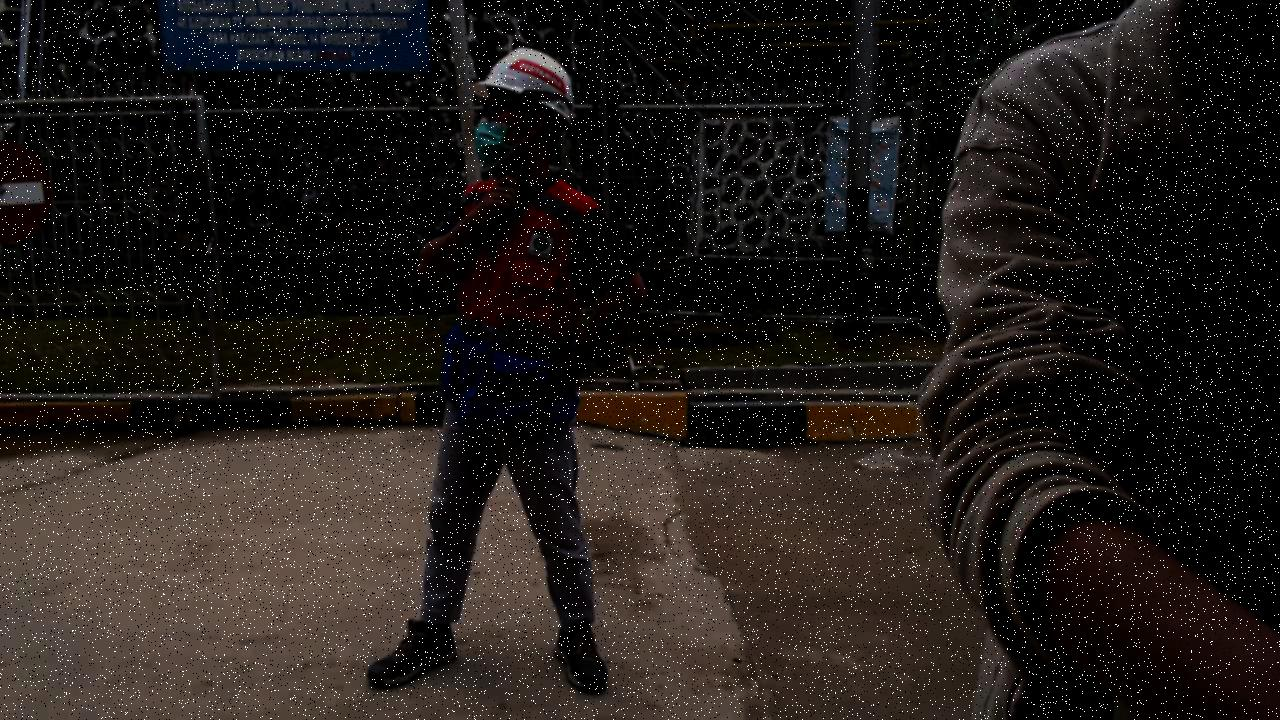helmet: (470, 42, 593, 131)
mask: (469, 113, 530, 169)
safety-shoes: (353, 613, 474, 689), (533, 630, 632, 694)
